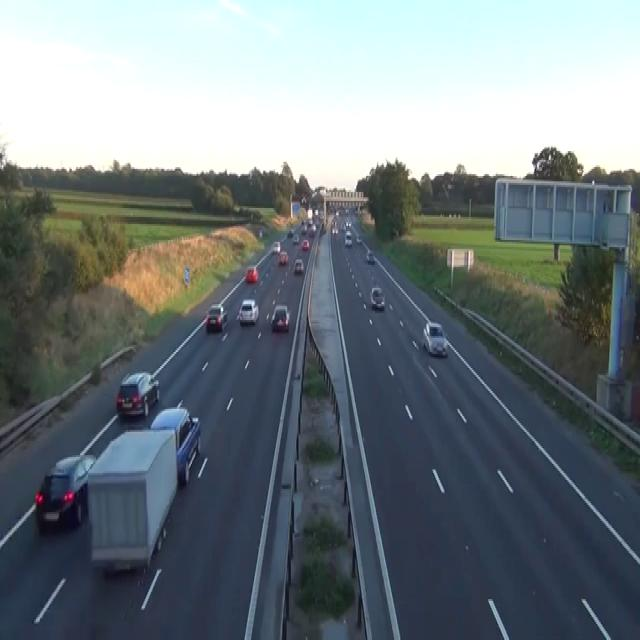Car: (34, 452, 96, 532), (149, 404, 201, 486), (116, 372, 159, 418), (422, 320, 447, 356), (206, 302, 227, 332), (237, 298, 259, 324), (270, 304, 290, 331), (370, 284, 385, 310), (245, 265, 258, 283), (294, 258, 304, 274), (278, 251, 288, 265), (366, 249, 374, 263), (344, 231, 352, 245), (319, 222, 326, 235), (300, 222, 307, 235), (301, 238, 309, 249), (273, 240, 280, 252), (308, 224, 315, 236), (292, 233, 299, 243), (328, 202, 335, 212), (345, 219, 351, 229), (287, 228, 294, 236), (356, 233, 362, 242), (301, 194, 306, 204), (341, 220, 346, 230), (331, 217, 336, 227), (332, 226, 338, 234), (447, 182, 453, 188), (314, 208, 319, 215), (258, 228, 262, 236), (335, 210, 339, 217), (345, 208, 349, 215)
Truck: (86, 427, 177, 574)
